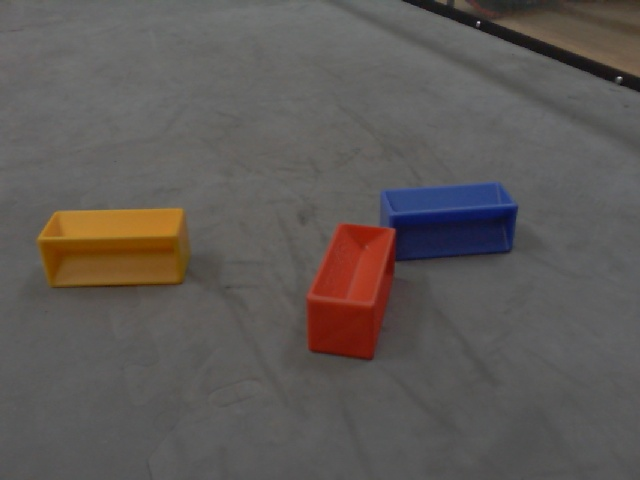BlueSample: (378, 180, 520, 265)
RedSample: (301, 216, 397, 364)
YellowSample: (33, 202, 199, 288)
